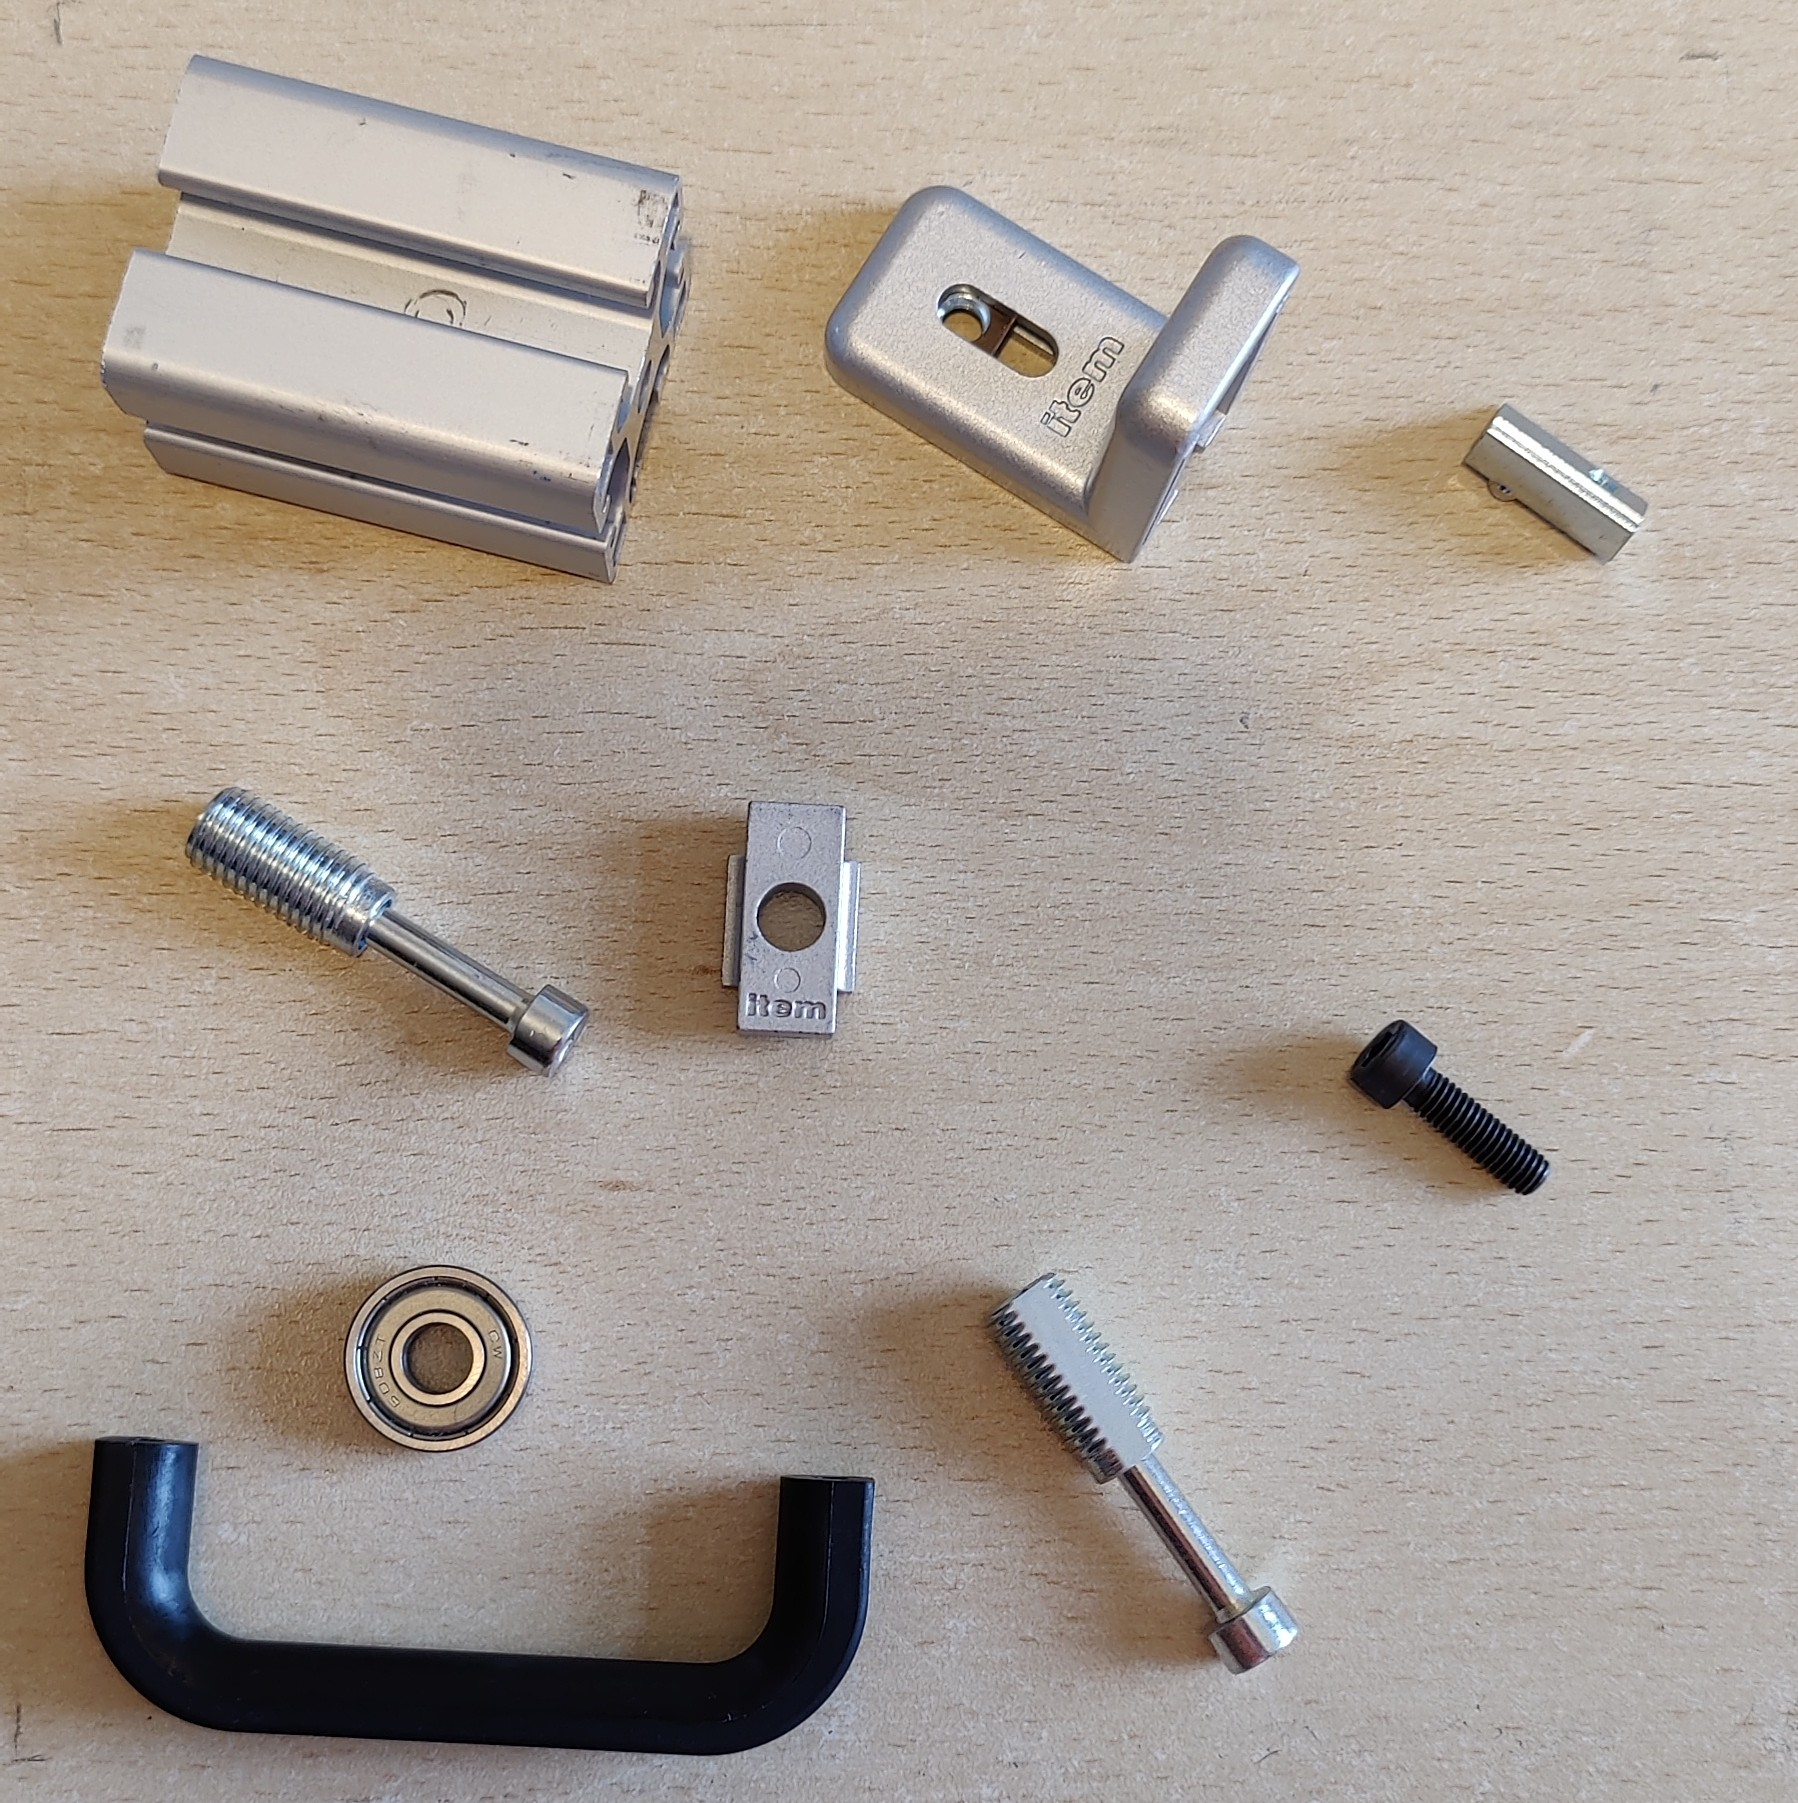Aluminium Extension: (99, 51, 695, 585)
Ball Bearing: (339, 1260, 538, 1456)
Multiwinkel: (818, 184, 1302, 566)
Pull Handle: (81, 1429, 878, 1760)
Shoulder Socket Head Cap Screw: (981, 1268, 1302, 1678), (178, 784, 593, 1077)
Socket Head Cap Screw: (1345, 1016, 1554, 1199)
T Nut Square: (716, 795, 866, 1042)
T Spring Nut: (1459, 402, 1651, 566)
